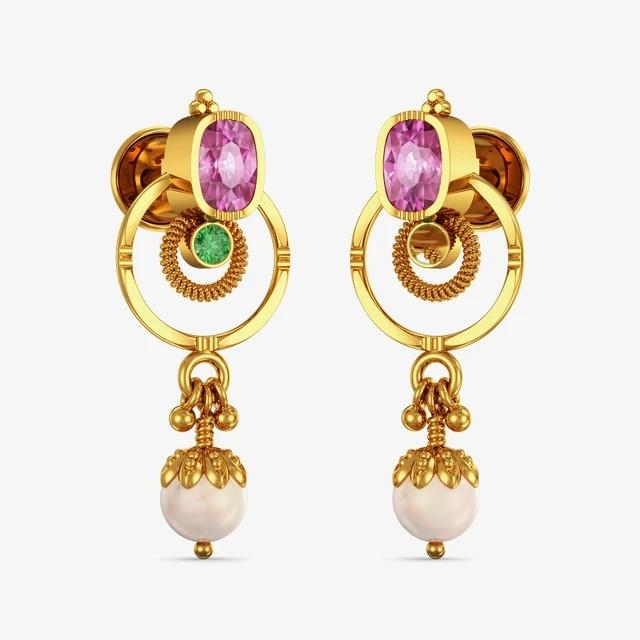missing gem: (411, 224, 447, 265)
